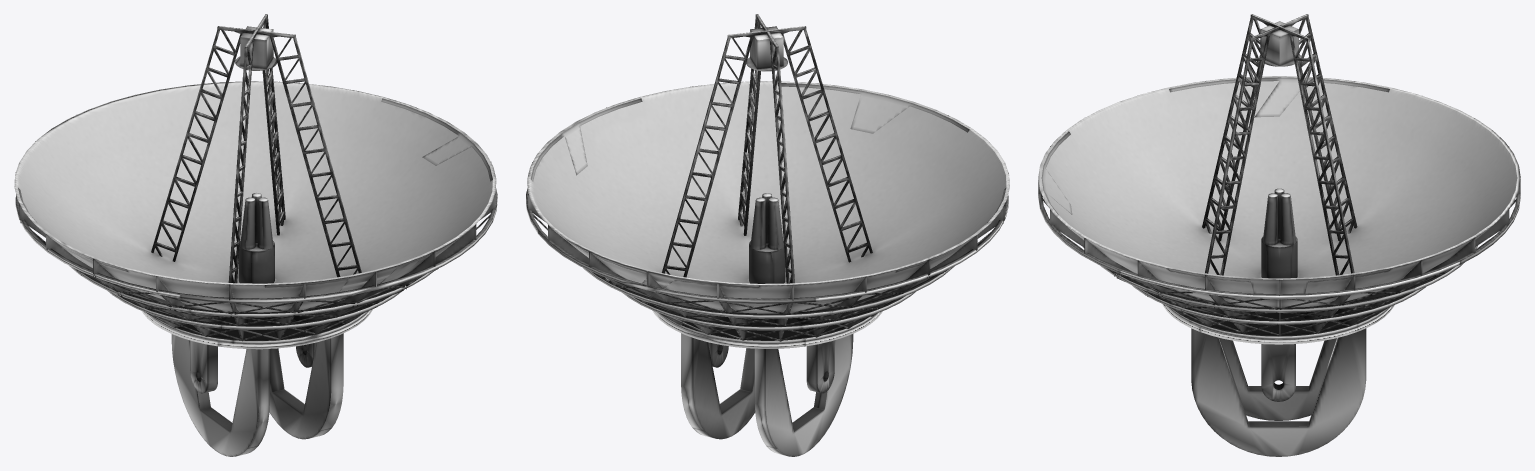
File: 70 meter dish.glb
The picture shows the model from 3 angles, left to right: view 1: azimuth 30°, elevation 25°; view 2: azimuth 150°, elevation 25°; view 3: azimuth 270°, elevation 25°; orthographic projection.
Parts seen in each view (by area): view 1: 70m_rev_e.; view 2: 70m_rev_e.; view 3: 70m_rev_e..
Part boxes in pixels (box(x1,y1,x2,y2)): 70m_rev_e.: box(14, 14, 497, 456); 70m_rev_e.: box(526, 14, 1009, 456); 70m_rev_e.: box(1038, 14, 1520, 456).
Size of the model in its own units: 91.57 by 85.54 by 91.32.
1 material, 1 textured.
